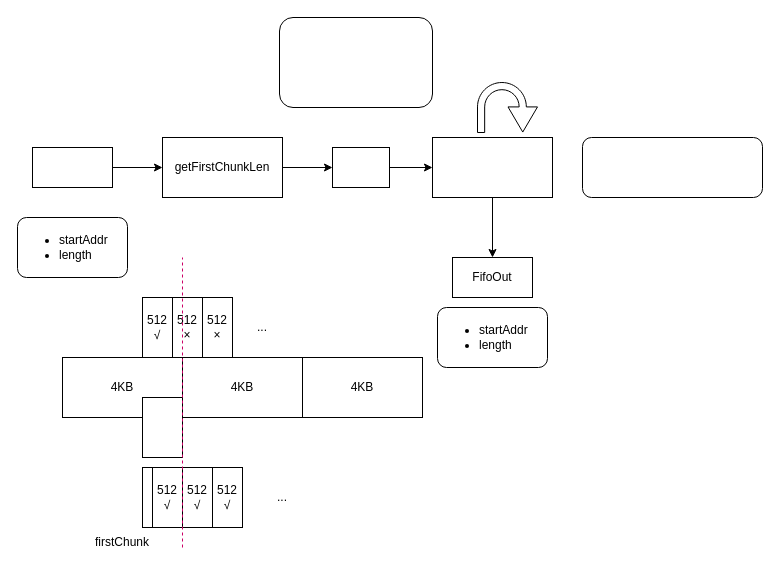
Some shapes in this 780 by 575 pixel diagram are drawn without their labels. The centre of each missing label's shape, as x and y in pixels:
"dmaRequest startAddr length firstChunkLen" goes at (x=355, y=62).
"FifoIn" goes at (x=72, y=167).
"genSplitChunks" goes at (x=492, y=167).
"newChunkPtrReg totalLenRemainReg isSplittingReg" goes at (x=672, y=167).
"offset" goes at (x=162, y=427).
"splitFifo" goes at (x=361, y=167).
